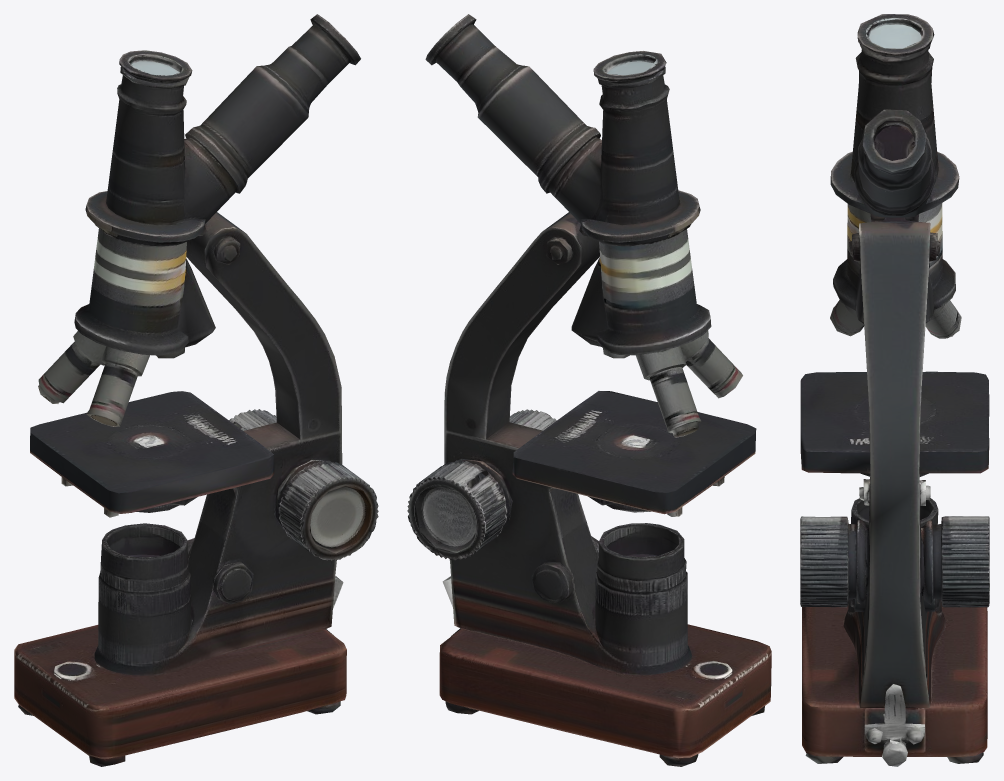
The model's file is microscope_a.glb.
3 views of the same model, side by side, from view 1: azimuth 30°, elevation 25°; view 2: azimuth 150°, elevation 25°; view 3: azimuth 270°, elevation 25° (orthographic).
Parts seen in each view (by area): view 1: microscope_a; view 2: microscope_a; view 3: microscope_a.
Boxes of the visible parts, x1,y1,x2,y2 form: microscope_a: (14,14,378,766); microscope_a: (407,14,771,766); microscope_a: (800,14,989,766).
Size of the model in its own units: 0.2027 by 0.42 by 0.1085.
Materials: 1 (1 with a texture image).
